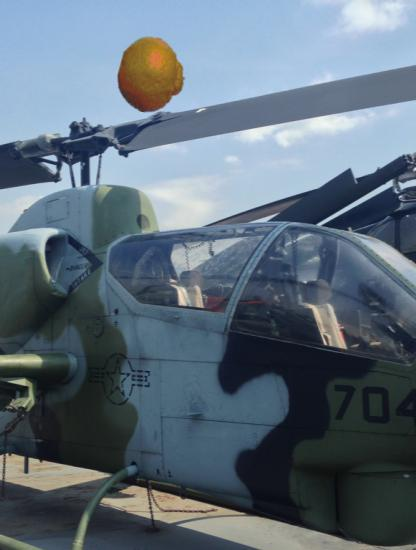Mandarine: (113, 37, 190, 114)
